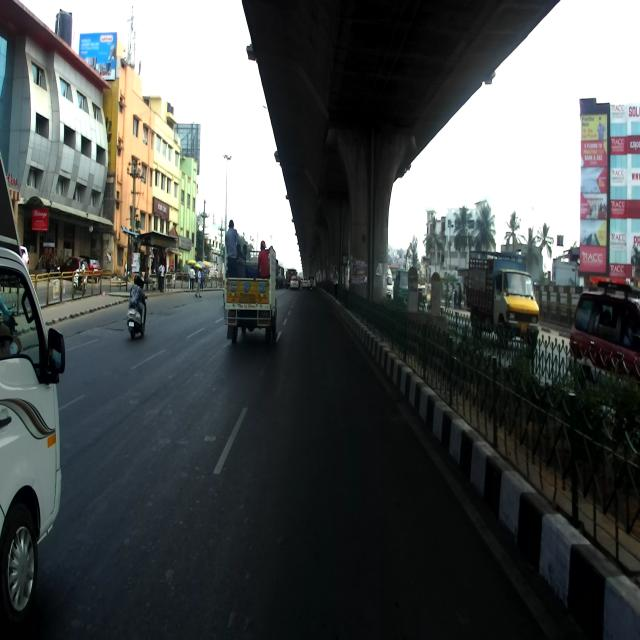truck ahead at: (220, 230, 278, 337)
